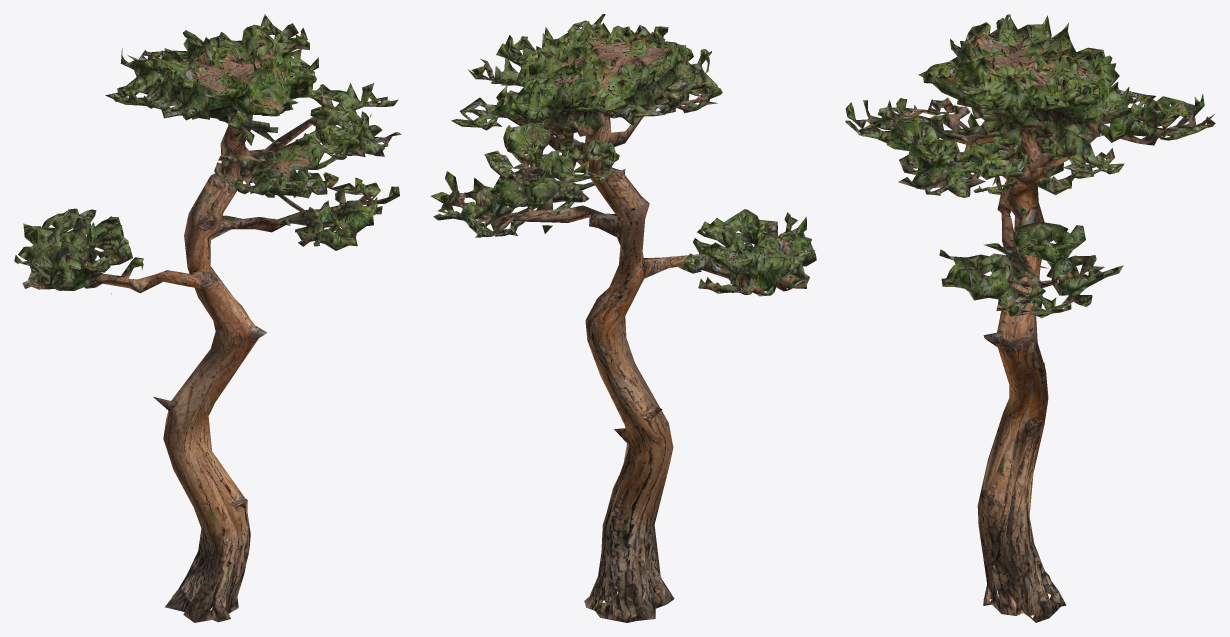
File: Korean_Red_Pine.fbx
3 renders of one model, left to right at view 1: azimuth 30°, elevation 25°; view 2: azimuth 150°, elevation 25°; view 3: azimuth 270°, elevation 25°, orthographic. The views are drawn at different scales.
Visible parts, largest first — view 1: Korean_Red_Pine_LOD0; view 2: Korean_Red_Pine_LOD0; view 3: Korean_Red_Pine_LOD0.
Boxes of the visible parts, left/top/right/bottom form: Korean_Red_Pine_LOD0: left=14, top=14, right=401, bottom=622; Korean_Red_Pine_LOD0: left=431, top=14, right=816, bottom=622; Korean_Red_Pine_LOD0: left=845, top=14, right=1215, bottom=622.
Size of what is drawn, in the model's own units: 402 by 578 by 340.
Materials: 1 (1 with a texture image).
